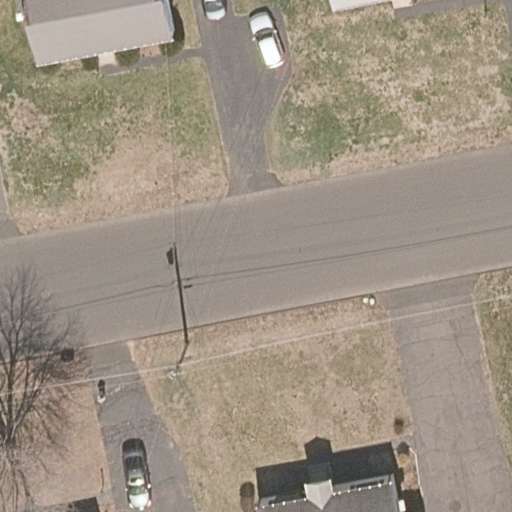DT: (167, 344, 190, 380)
